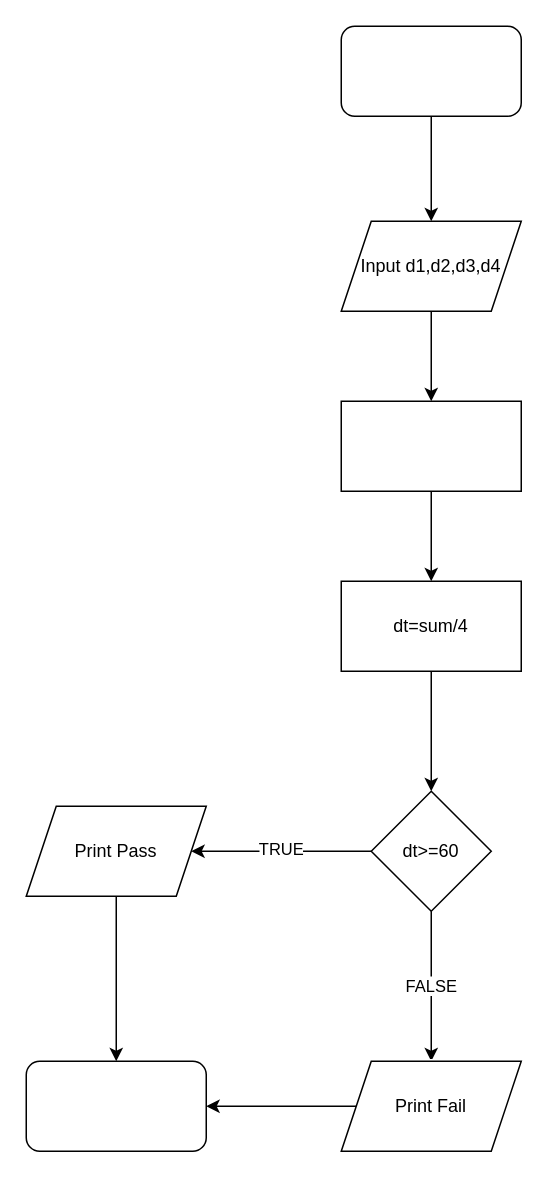
Some shapes in this 548 by 1178 pixel diagram are drawn without their labels. Here are the shapes that lost their labels. From the top down, the centre of each, then its label:
At pixel 430 70: "Start".
At pixel 430 445: "sum=d1+d2+d3+d4".
At pixel 115 1105: "End".
